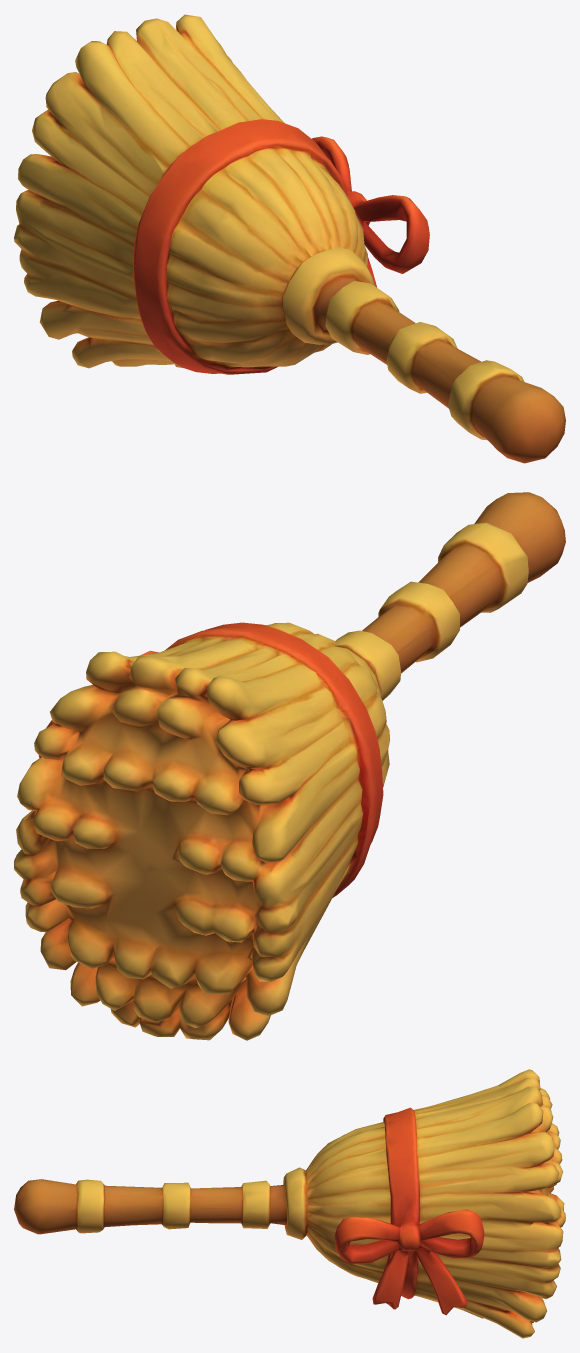
Rendered from broom.glb.
3 views of the same model, one above another, from view 1: azimuth 30°, elevation 25°; view 2: azimuth 150°, elevation 25°; view 3: azimuth 270°, elevation 25° (orthographic). The views are drawn at different scales.
Parts seen in each view (by area): view 1: tripo_node_e7e378f3-94d2-4ae8-bc9d-68348371b313; view 2: tripo_node_e7e378f3-94d2-4ae8-bc9d-68348371b313; view 3: tripo_node_e7e378f3-94d2-4ae8-bc9d-68348371b313.
Boxes of the visible parts, x1,y1,x2,y2 form: tripo_node_e7e378f3-94d2-4ae8-bc9d-68348371b313: (14, 14, 565, 463); tripo_node_e7e378f3-94d2-4ae8-bc9d-68348371b313: (14, 492, 565, 1040); tripo_node_e7e378f3-94d2-4ae8-bc9d-68348371b313: (14, 1069, 565, 1338).
Bounding box in the file's own units: 0.3018 × 0.35 × 0.7417.
1 material, 1 textured.
